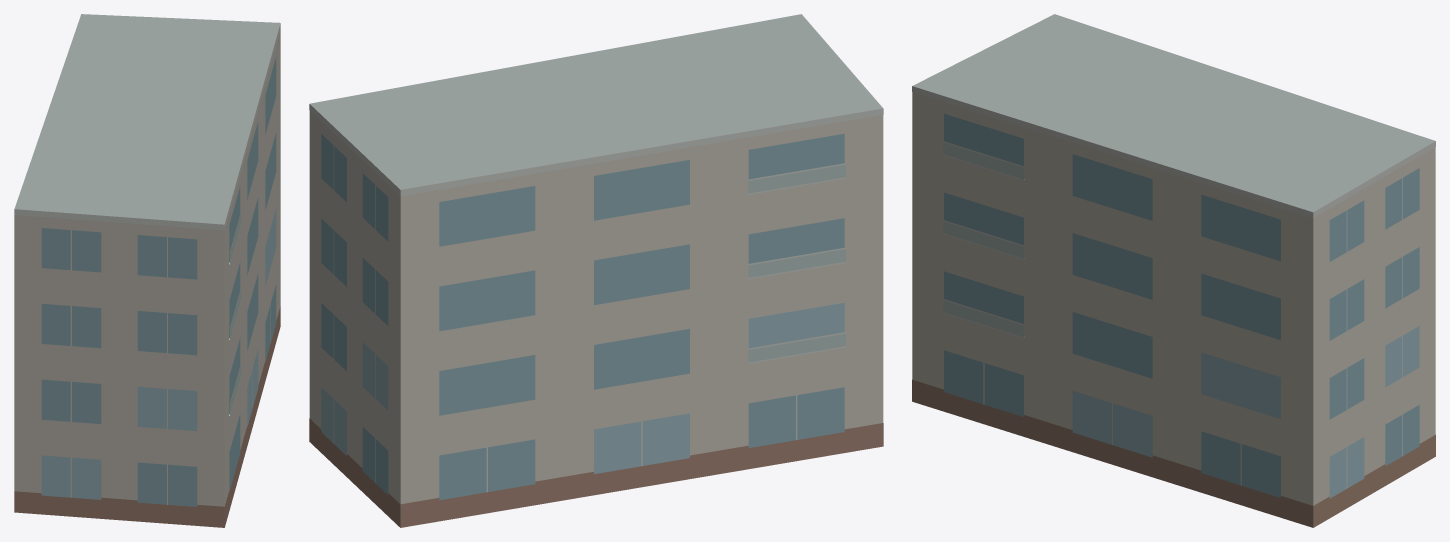
File: survey-upis-32885559.glb
The picture shows the model from 3 angles, left to right: view 1: azimuth 30°, elevation 25°; view 2: azimuth 150°, elevation 25°; view 3: azimuth 270°, elevation 25°; orthographic projection. The views are drawn at different scales.
Parts seen in each view (by area): view 1: survey-upis-32885559.tmp; view 2: survey-upis-32885559.tmp; view 3: survey-upis-32885559.tmp.
Part boxes in pixels (x1,y1,x2,y2): survey-upis-32885559.tmp: (14,14,280,527); survey-upis-32885559.tmp: (309,14,883,527); survey-upis-32885559.tmp: (912,14,1435,527).
Bounding box in the file's own units: 17.26 × 12.8 × 19.26.
